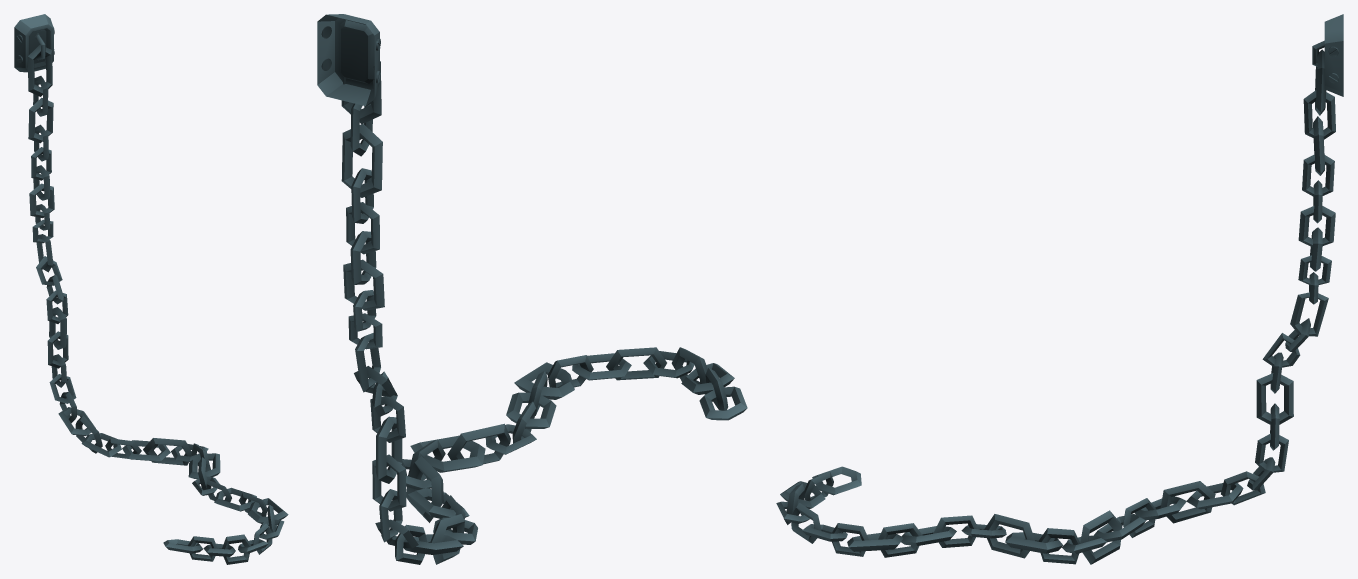
Rendered from obj_chain_hang_C.FBX.
3 renders of one model, left to right at view 1: azimuth 30°, elevation 25°; view 2: azimuth 150°, elevation 25°; view 3: azimuth 270°, elevation 25°, orthographic. The views are drawn at different scales.
Parts seen in each view (by area): view 1: obj_chain_hang_C; view 2: obj_chain_hang_C; view 3: obj_chain_hang_C.
Part boxes in pixels (x1,y1,x2,y2): obj_chain_hang_C: (14,14,288,564); obj_chain_hang_C: (317,14,747,564); obj_chain_hang_C: (776,14,1343,564).
Size of the model in its own units: 1.36 by 3.78 by 3.84.
